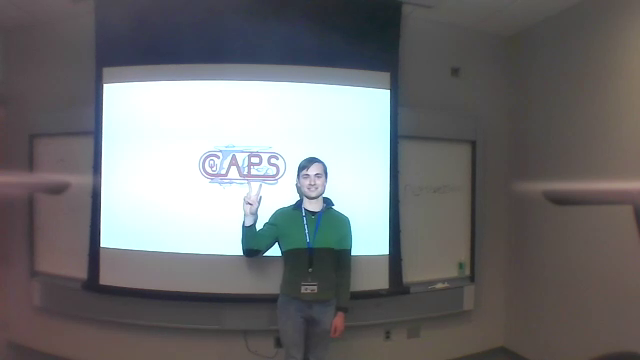peace: (238, 177, 272, 216)
